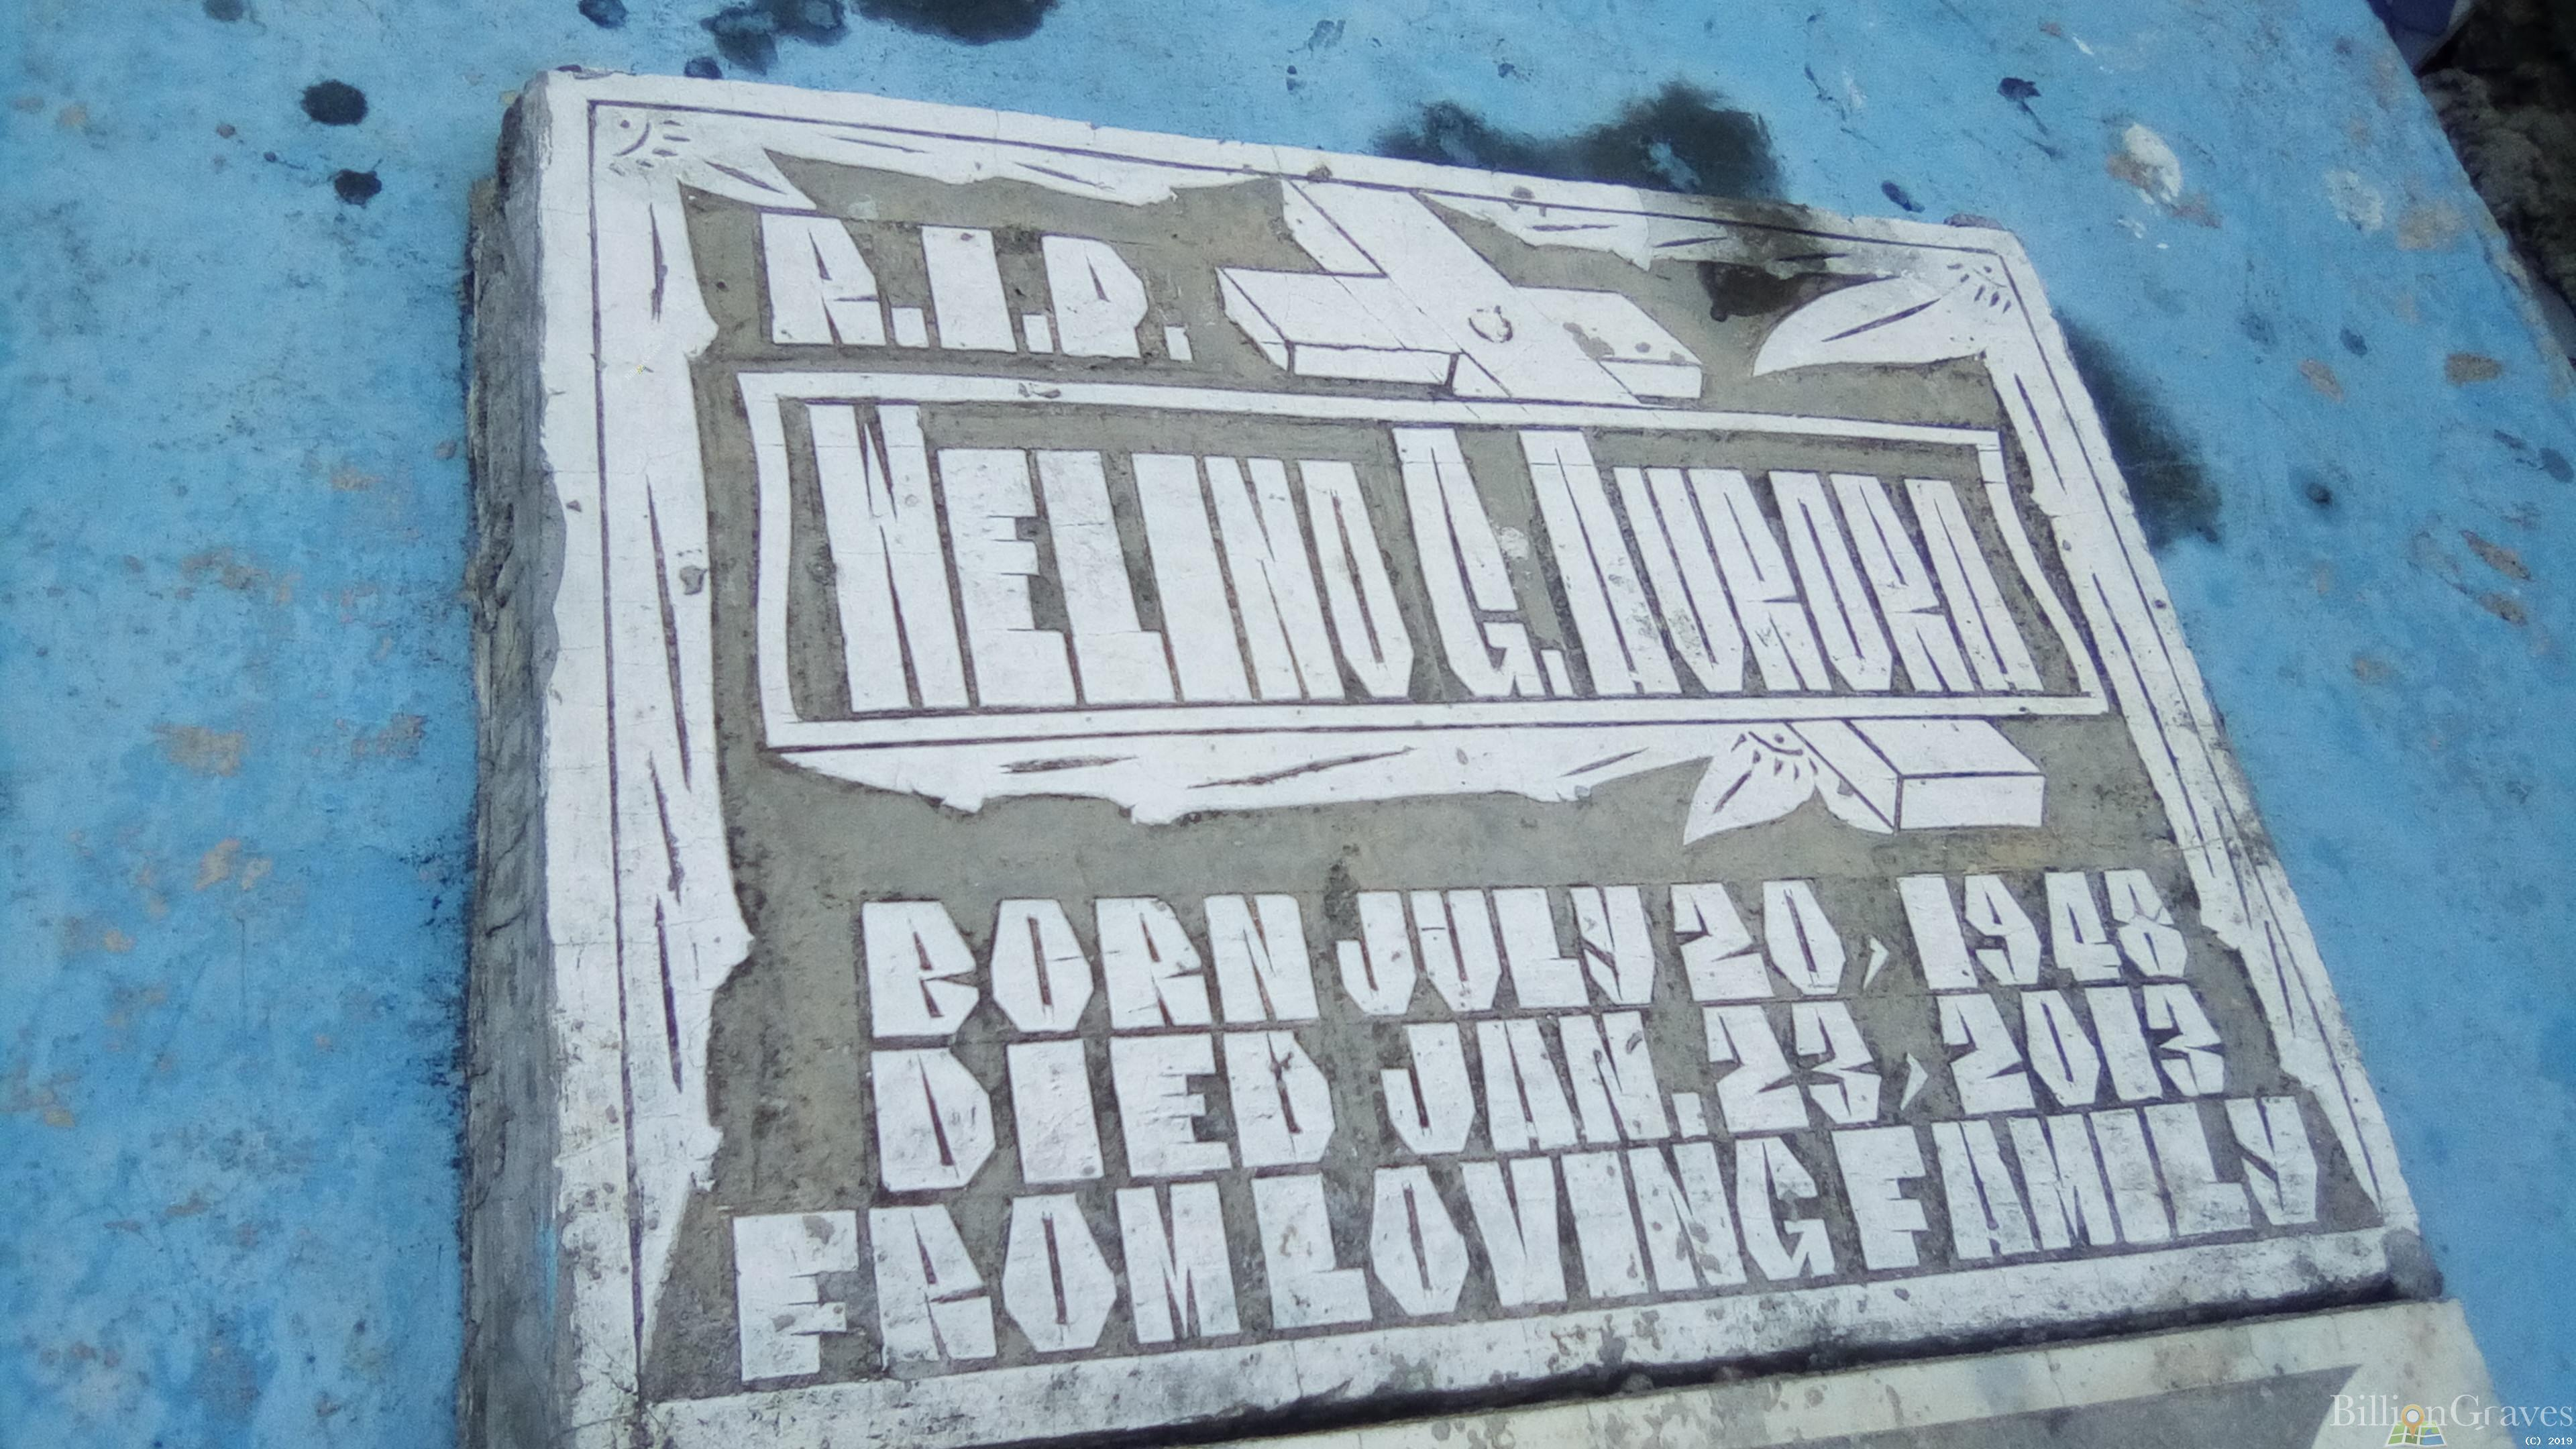flat: (483, 78, 2443, 1438)
